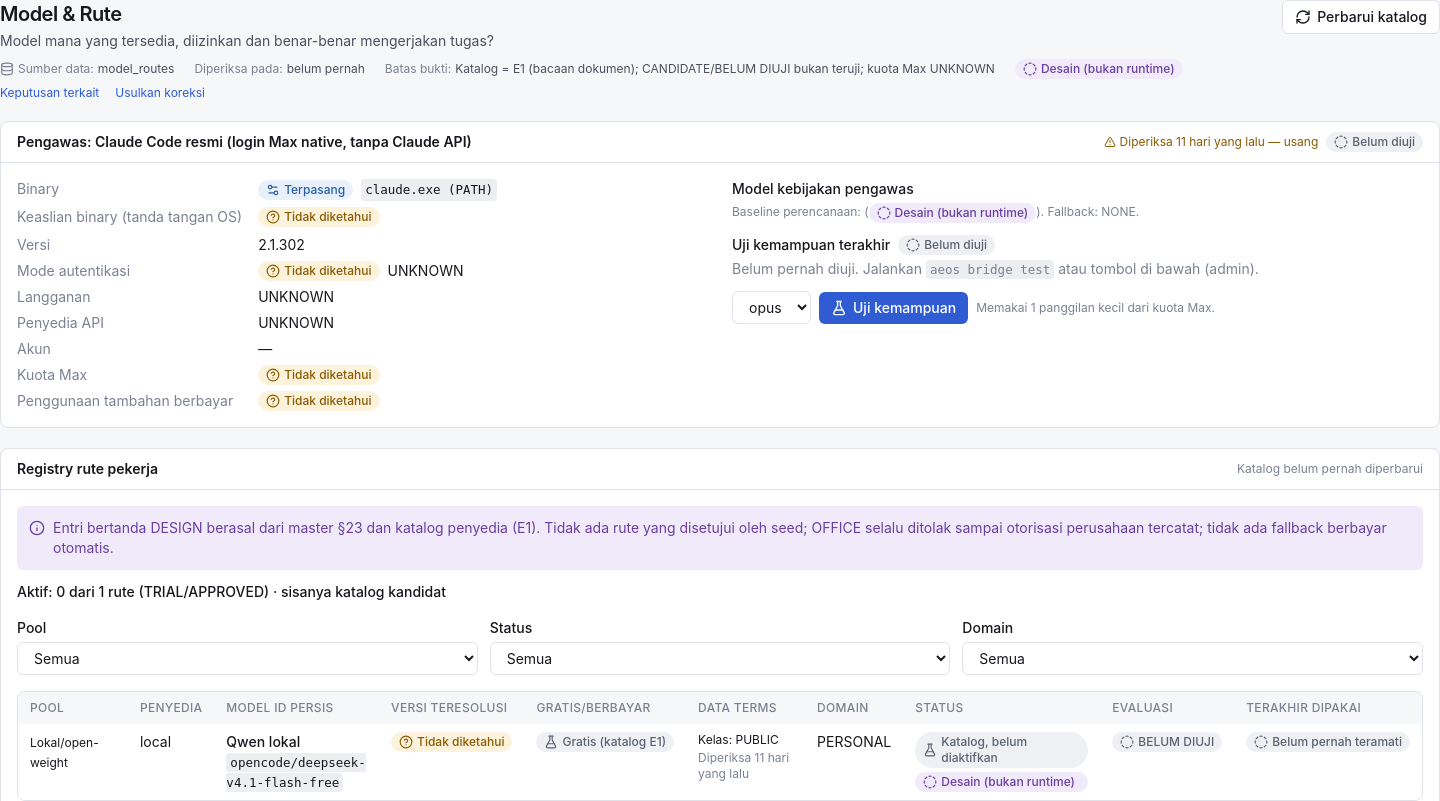
Route view (C1 routing fields) › the LOCAL endpoint form shows the recorded build and announces an unchanged configuration
Click the text "Qwen lokal": (263, 741) [226,733,300,750]
(page scrolled)
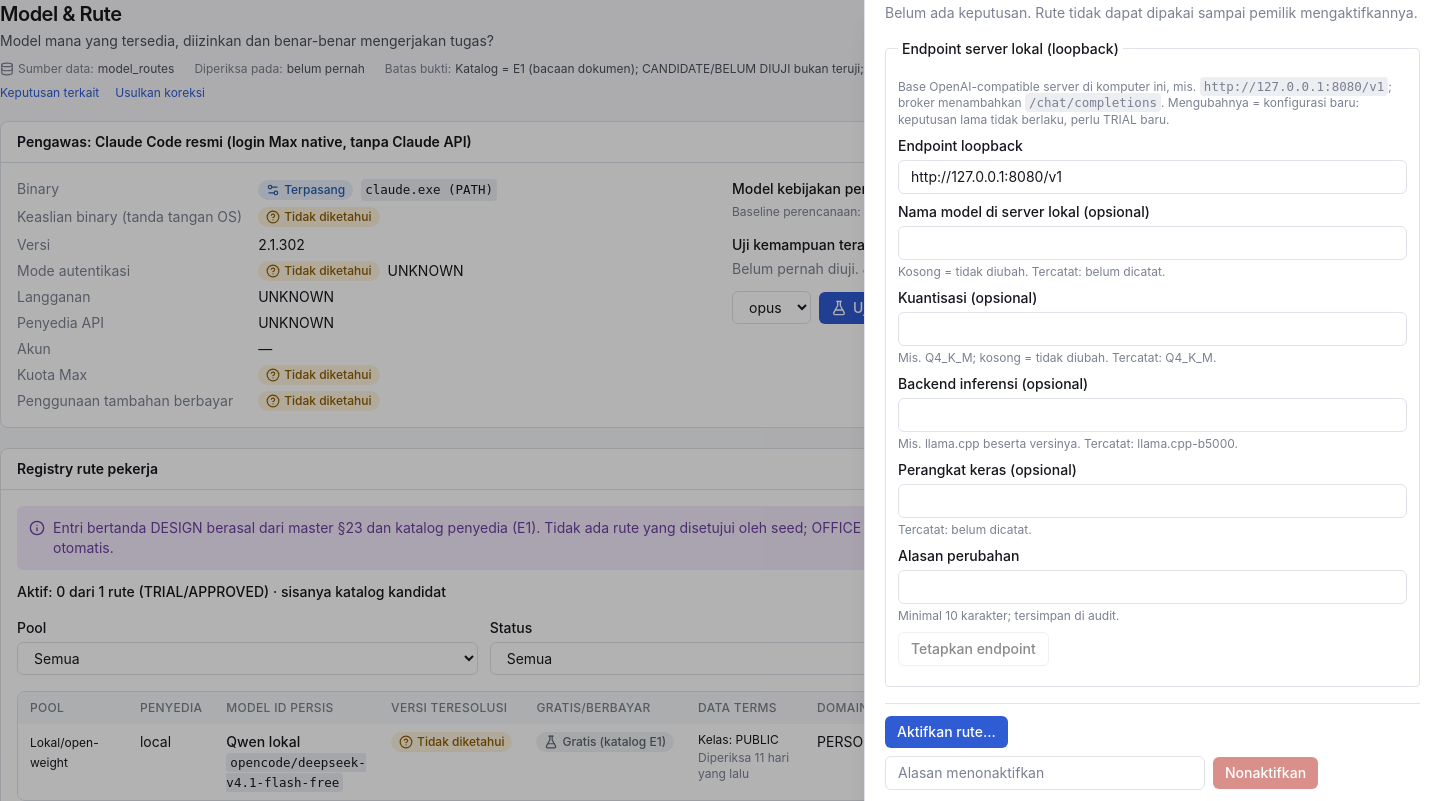
Check: the text "Mis. Q4_K_M; kosong = tidak diubah. Tercatat: Q4_K_M." is shown, box [898,350,1216,365]
Check: the text "Mis. llama.cpp beserta versinya. Tercatat: llama.cpp-b5000." is shown, box [898,436,1238,451]
Check: the text "Kosong = tidak diubah. Tercatat: belum dicatat." is shown 2 times, box [898,264,1165,279]; [898,522,1032,537]
In the field named "Alasan perubahan endpoint": (1152, 587) [898,570,1407,604], type "server lokal tetap sama"
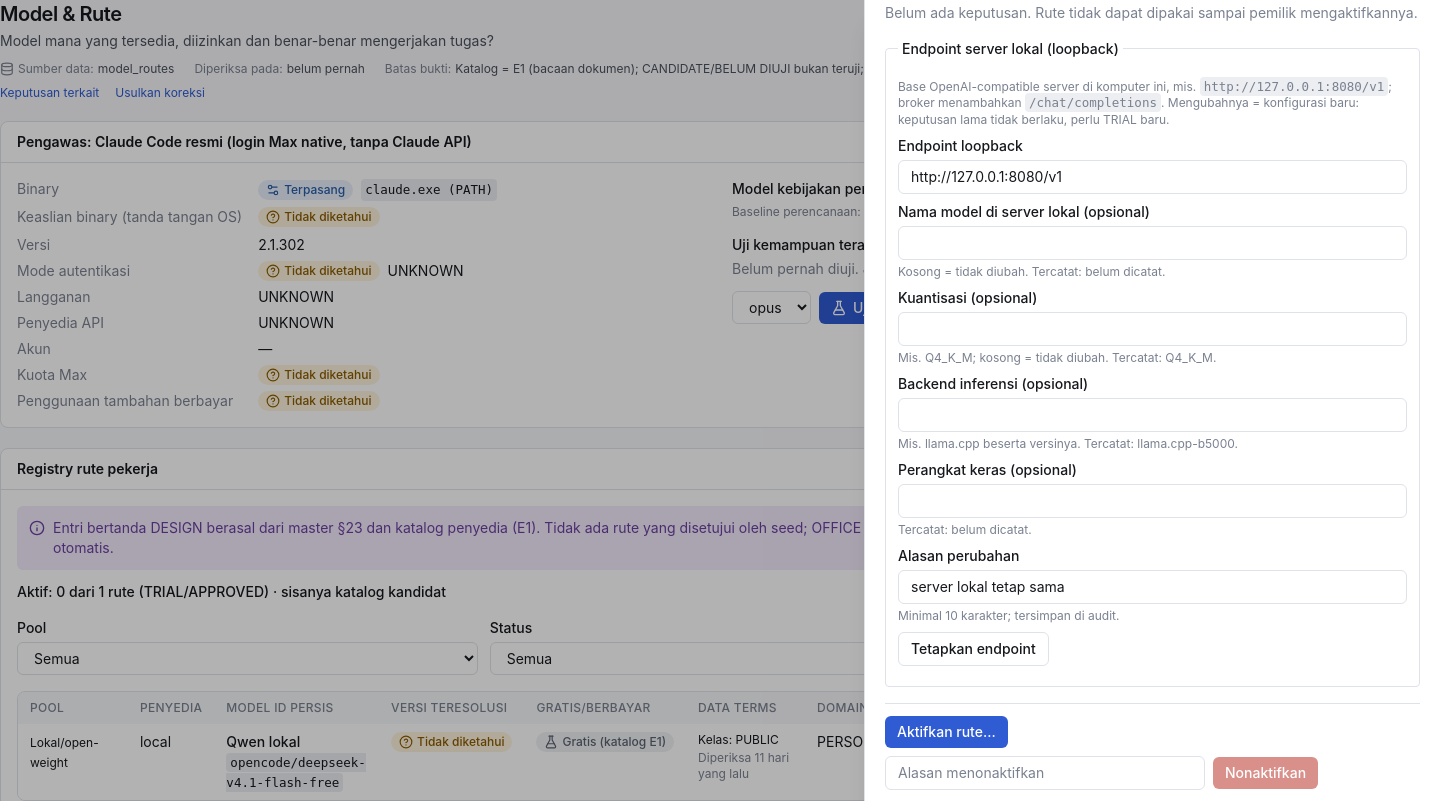
Click the button "Tetapkan endpoint": (973, 649) [898,632,1049,666]
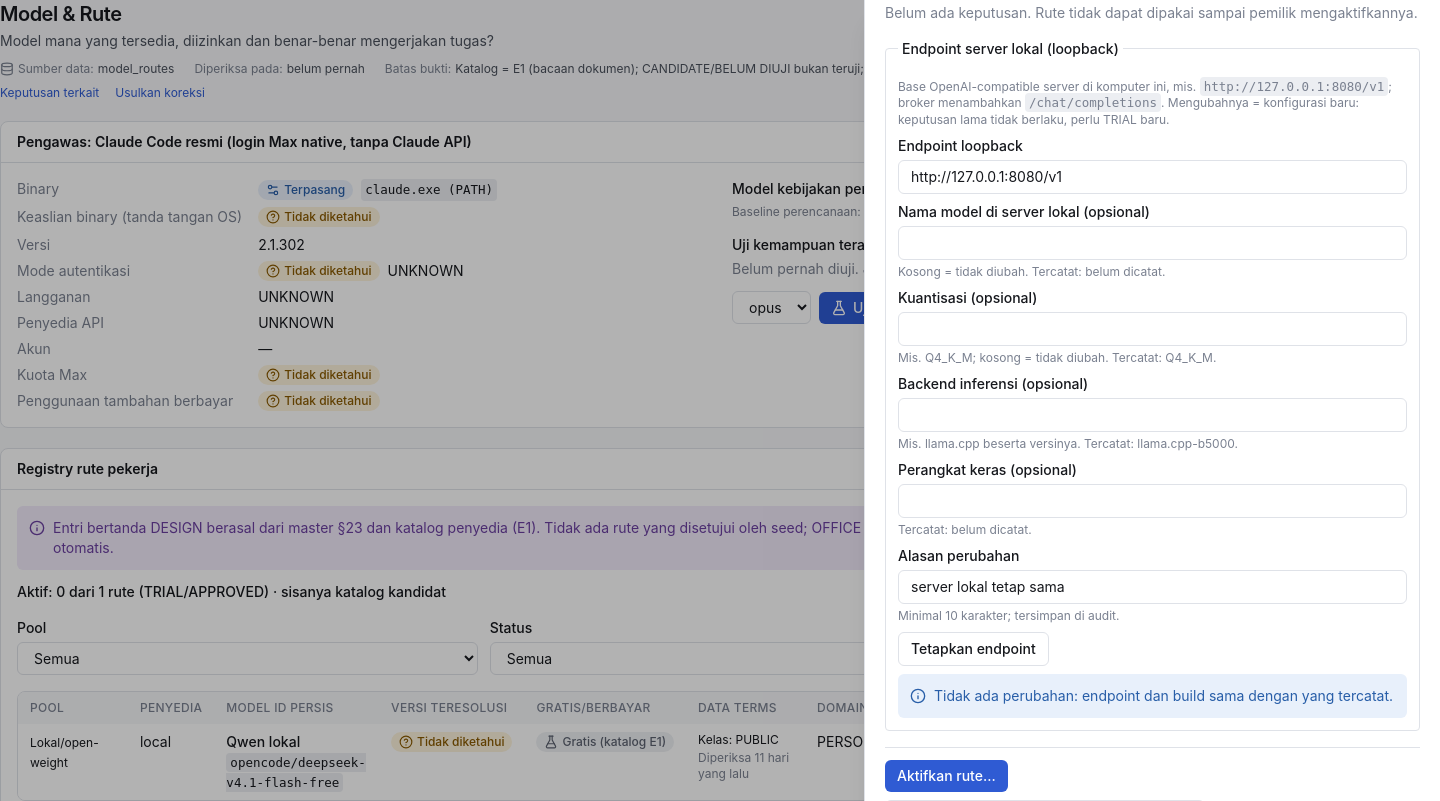
Check: the text "Tidak ada perubahan: endpoint dan build sama" is shown, box [934,687,1393,704]
